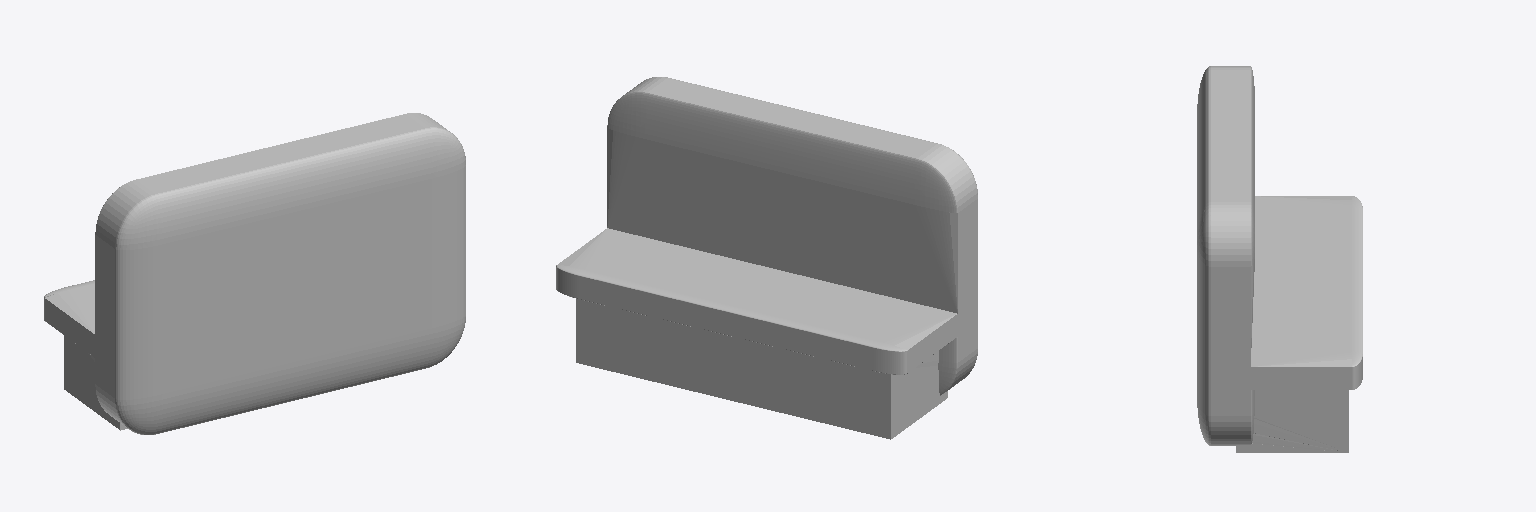
File: booth2.obj
The picture shows the model from 3 angles: view 1: azimuth 30°, elevation 25°; view 2: azimuth 150°, elevation 25°; view 3: azimuth 270°, elevation 25°; orthographic projection.
Visible parts, largest first — view 1: Cube.001_Cube.002; view 2: Cube.001_Cube.002; view 3: Cube.001_Cube.002.
Boxes of the visible parts, box(x1,y1,x2,y2) form: Cube.001_Cube.002: box(44, 113, 465, 434); Cube.001_Cube.002: box(556, 77, 977, 439); Cube.001_Cube.002: box(1197, 66, 1362, 452).
Bounding box in the file's own units: 10 × 6.54 × 4.1.